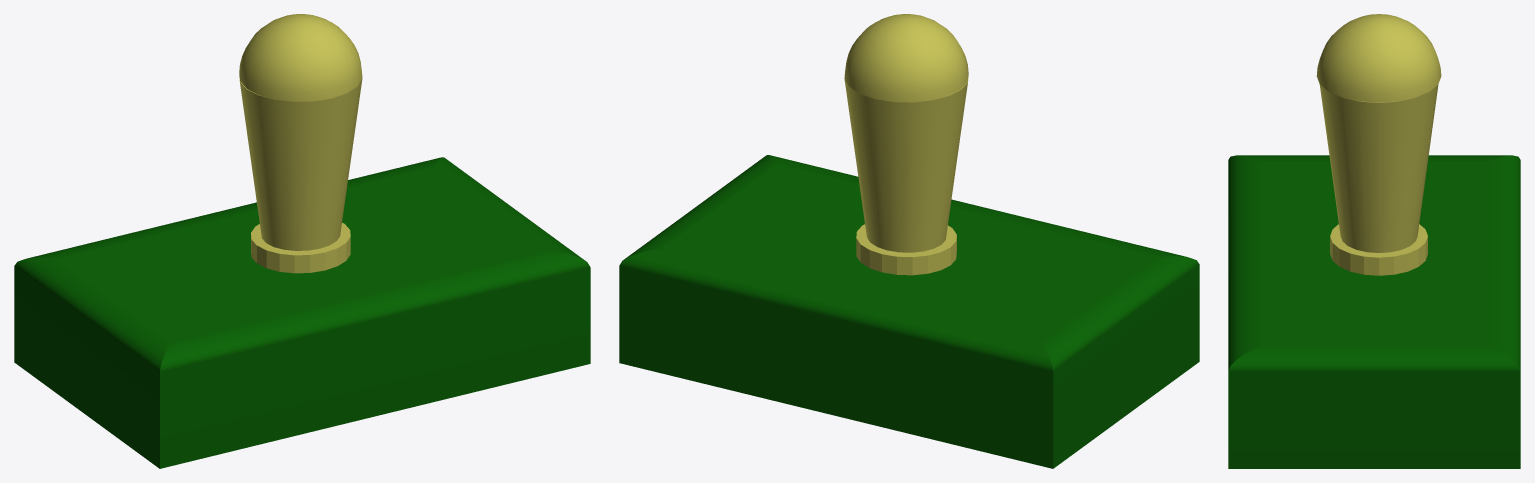
The model's file is 通过章.fbx.
3 renders of one model, left to right at view 1: azimuth 30°, elevation 25°; view 2: azimuth 150°, elevation 25°; view 3: azimuth 270°, elevation 25°, orthographic.
Visible parts, largest first — view 1: pCube6, pCylinder2, pSphere2; view 2: pCube6, pCylinder2, pSphere2; view 3: pCube6, pCylinder2, pSphere2.
Part boxes in pixels (box(x1,y1,x2,y2)): pCube6: box(14, 157, 590, 468); pCylinder2: box(239, 70, 362, 273); pSphere2: box(239, 14, 362, 101); pCube6: box(619, 155, 1199, 468); pCylinder2: box(844, 70, 968, 275); pSphere2: box(844, 14, 968, 102); pCube6: box(1228, 155, 1520, 468); pCylinder2: box(1319, 84, 1438, 275); pSphere2: box(1316, 14, 1441, 102).
Size of the model in its own units: 0.1685 by 0.1277 by 0.0985.
